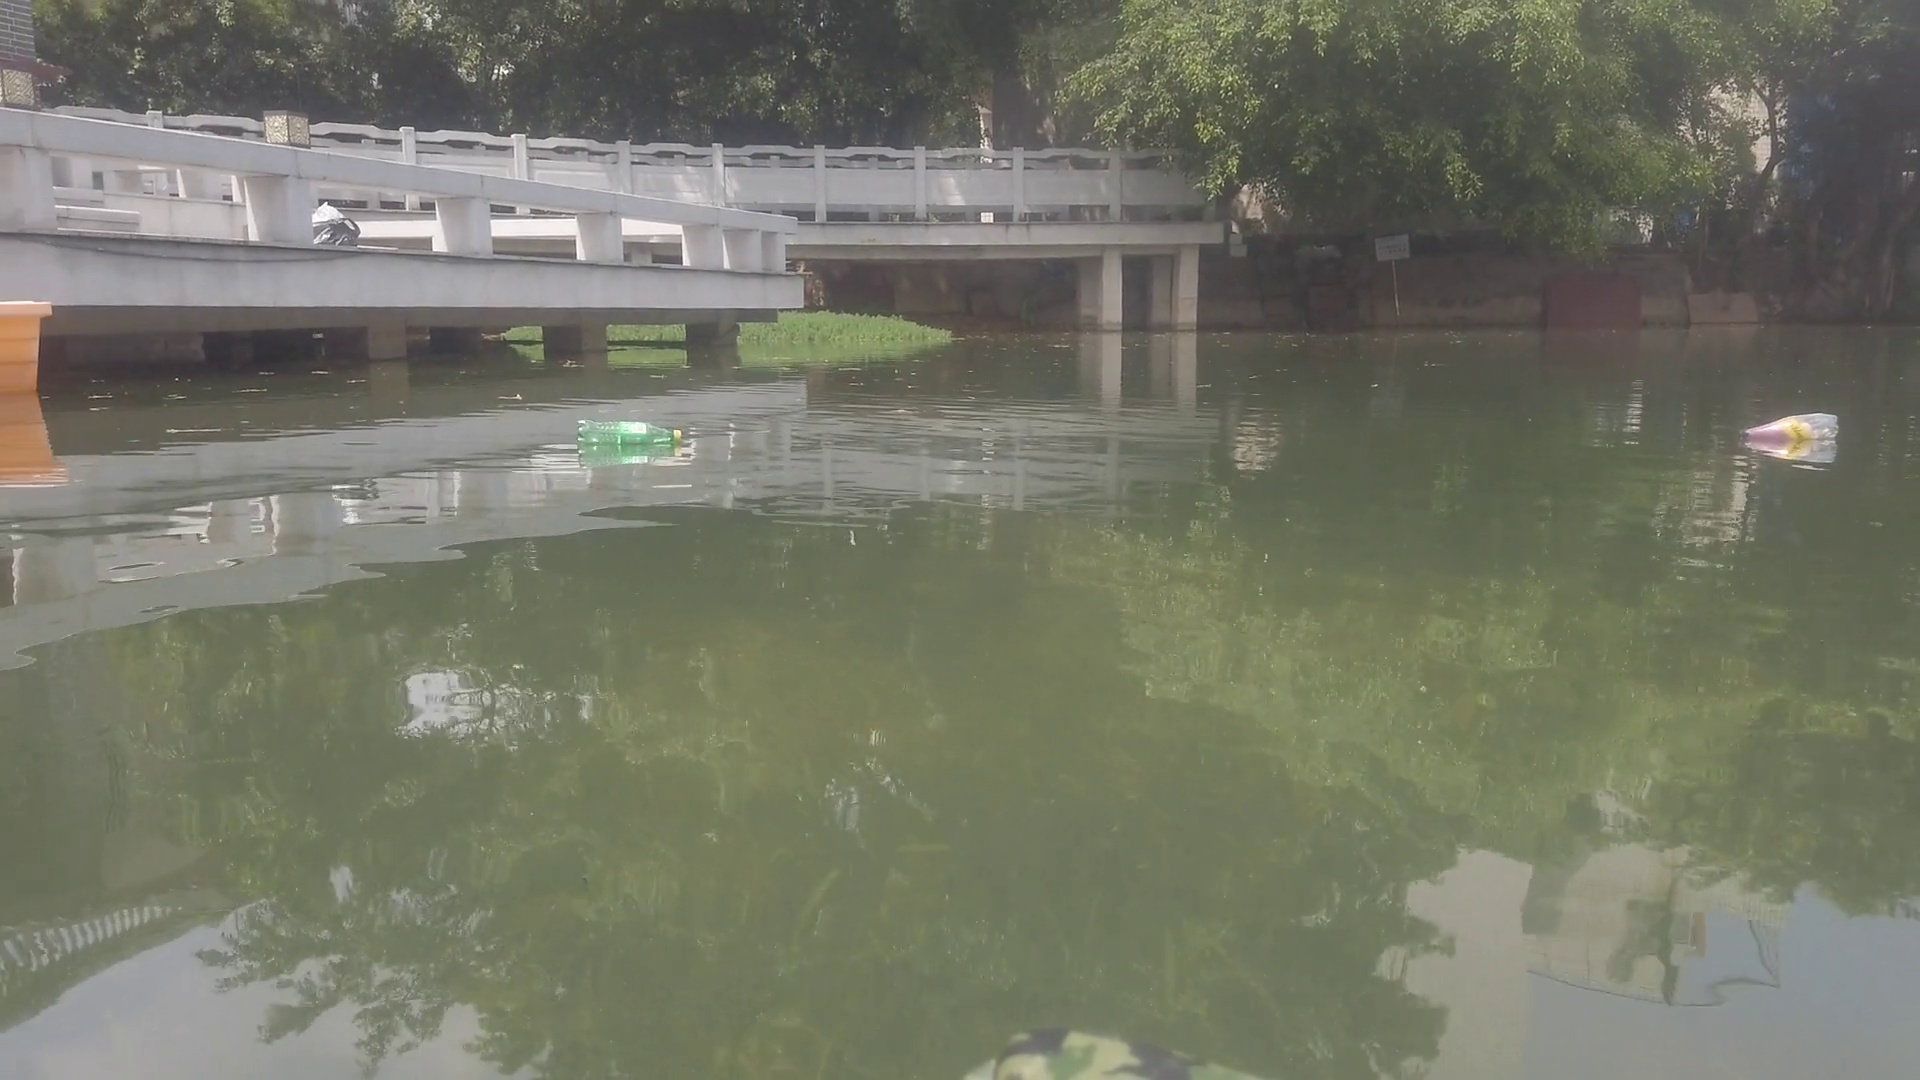bottle: (1731, 410, 1847, 442), (574, 414, 683, 446)
